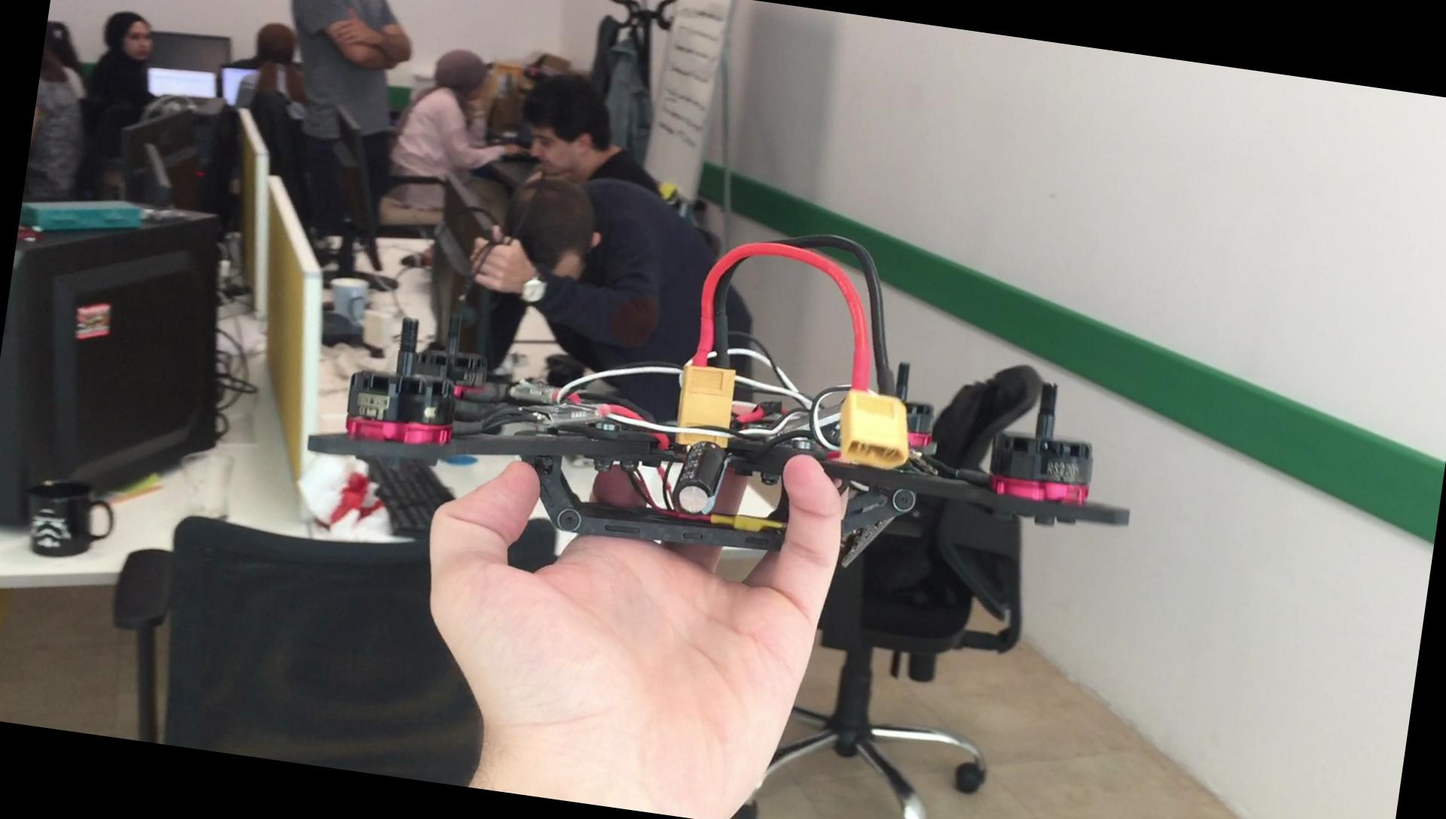drone: (278, 282, 1173, 639)
